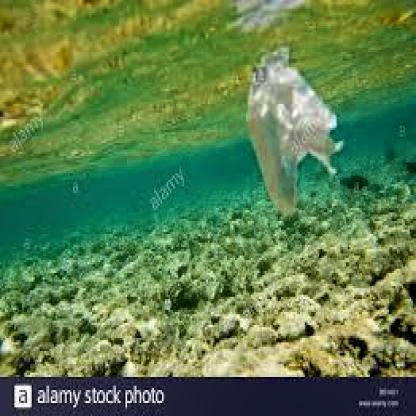pbag: (244, 47, 344, 216)
